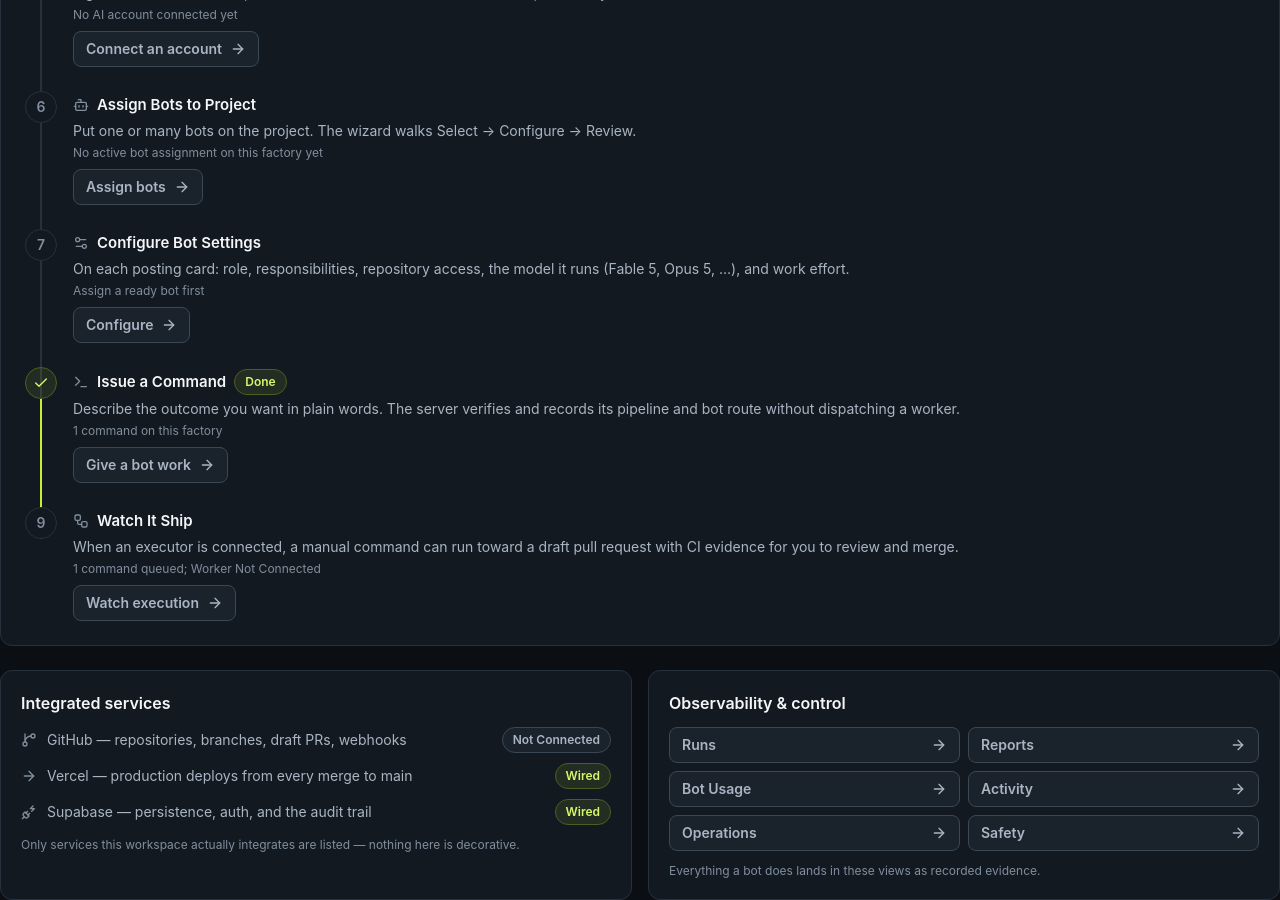
Test: AiFactoryConsole › says the executor is Not Connected rather than promising a run that cannot start
(page scrolled)
Expected: the text "without dispatching a worker" is shown, [73, 400, 960, 417]
Expected: the text "1 command queued; Worker Not Connected" is shown, [73, 561, 321, 576]
Click the button "Watch execution".
click(154, 603)  # box [73, 585, 236, 621]
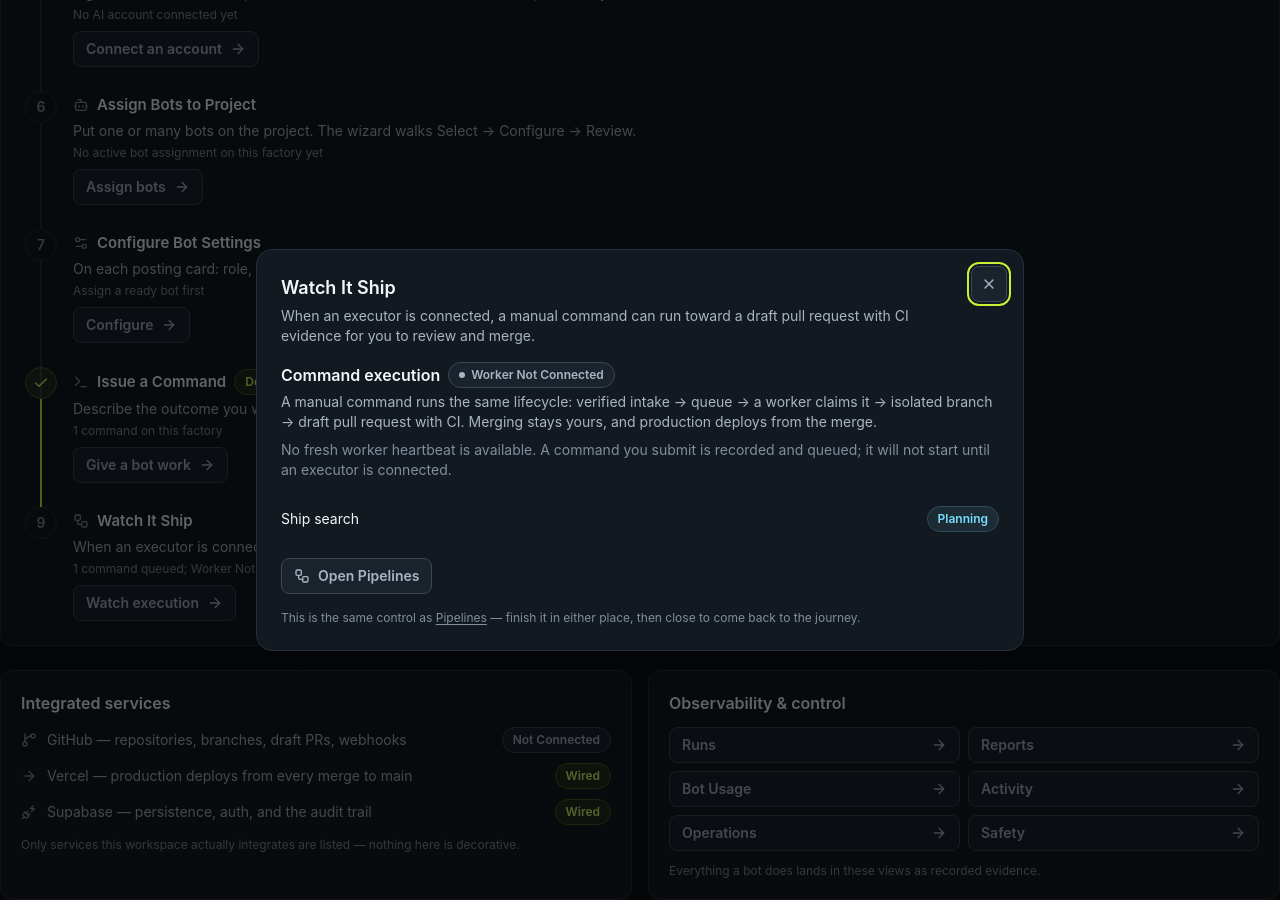
Now the text "Worker Not Connected" is shown, box [448, 362, 615, 388]
Now the text "will not start until an executor is connected" is shown, box [281, 441, 990, 478]
